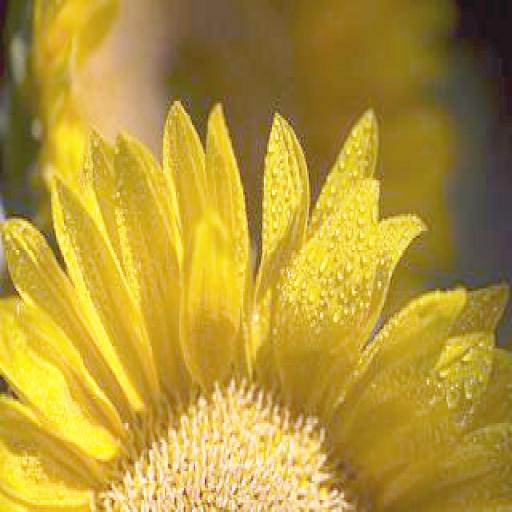sunflower: (4, 3, 506, 512)
